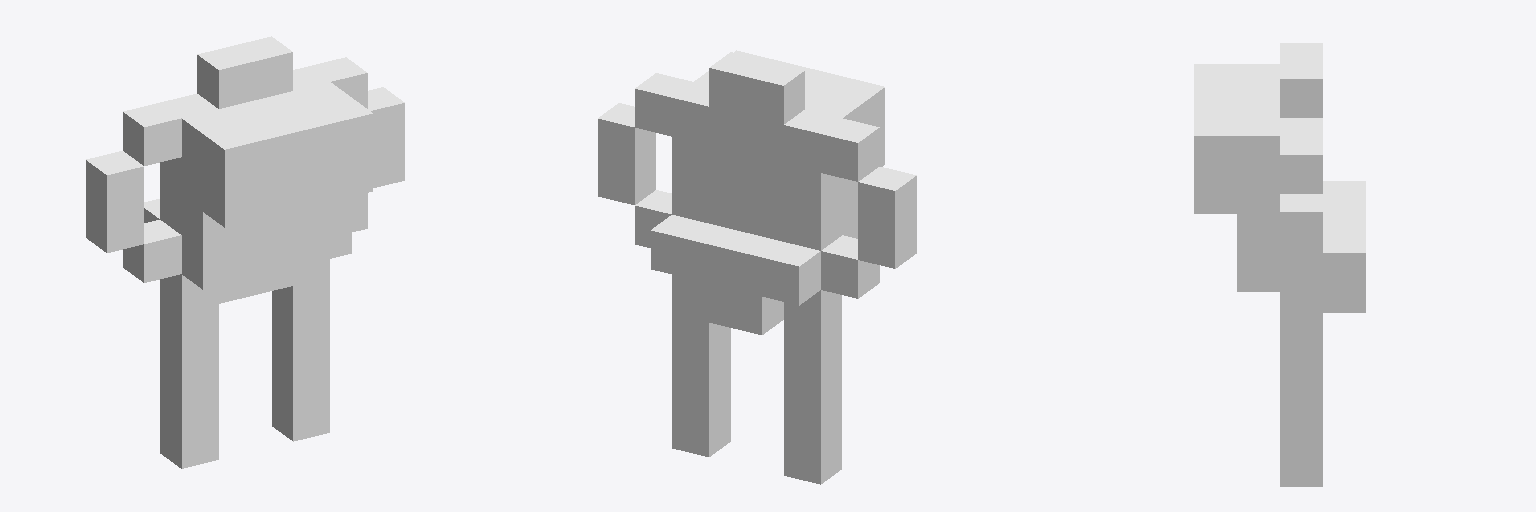
The model's file is scummBarLady01_body.obj.
The picture shows the model from 3 angles: view 1: azimuth 30°, elevation 25°; view 2: azimuth 150°, elevation 25°; view 3: azimuth 270°, elevation 25°; orthographic projection.
Bounding box in the file's own units: 8 × 10 × 4.